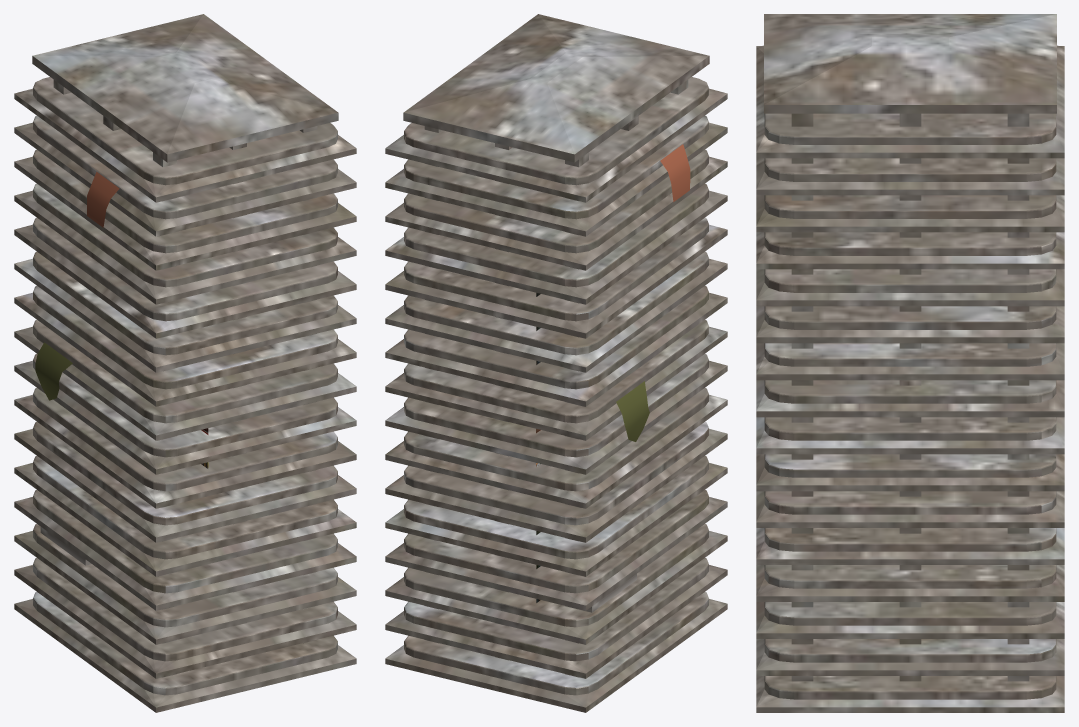
Rendered from BuildingOne_3.glb.
The picture shows the model from 3 angles, left to right: view 1: azimuth 30°, elevation 25°; view 2: azimuth 150°, elevation 25°; view 3: azimuth 270°, elevation 25°; orthographic projection. The views are drawn at different scales.
Visible parts, largest first — view 1: Cube.001, Plane.001, Plane; view 2: Cube.001, Plane.001, Plane; view 3: Cube.001.
Part boxes in pixels (box(x1,y1,x2,y2)): Cube.001: box(14, 14, 356, 712); Plane.001: box(35, 342, 72, 400); Plane: box(87, 171, 119, 227); Cube.001: box(385, 14, 727, 712); Plane.001: box(616, 381, 649, 441); Plane: box(660, 144, 690, 201); Cube.001: box(756, 14, 1064, 712).
Size of the model in its own units: 32.59 by 84.24 by 38.11.
7 materials, 5 textured.
